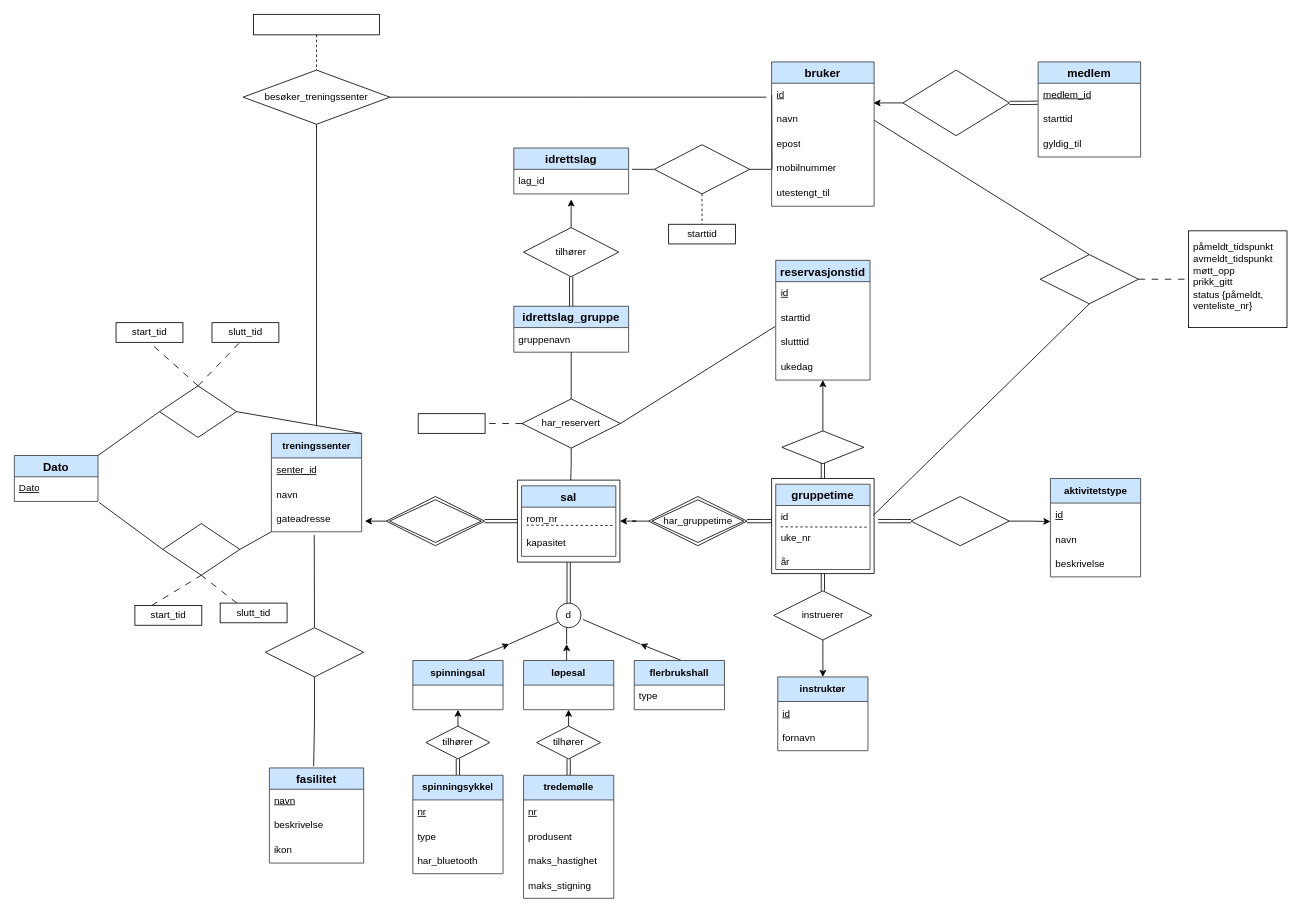
Some shapes in this 1301 by 913 pixel diagram are drawn without their labels. The shapes that lost their labels are listed below. From the top down, each one's centre as x and y in pixels, then its label:
At [316,24]: "ankomst_tidspunkt".
At [955,102]: "har_treningsmedlemskap".
At [702,169]: "medlem_av_idrettslag".
At [1089,279]: "deltar_på_time".
At [198,411]: "er_åpent".
At [451,423]: "uke_nr".
At [822,447]: "når".
At [435,521]: "har_sal".
At [959,521]: "type_gruppetime".
At [201,549]: "er_bemannet".
At [314,652]: "fasiliterer".
